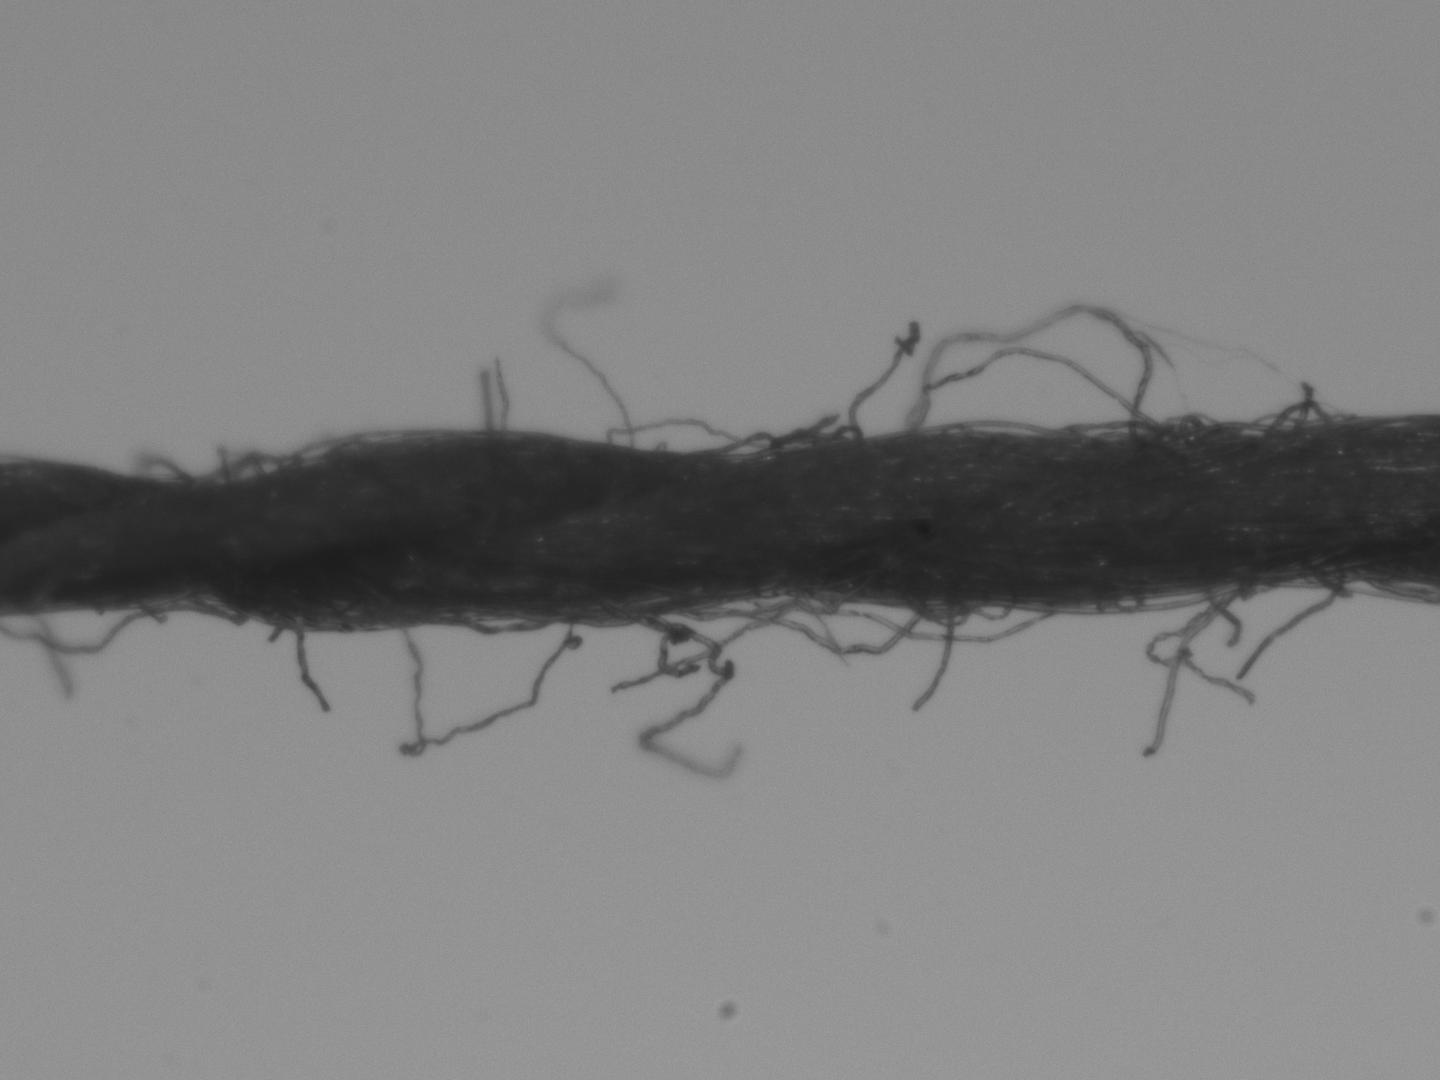loop_fiber: (686, 591, 921, 658), (1027, 584, 1235, 617), (603, 417, 760, 450), (196, 454, 298, 483), (927, 417, 1067, 438), (430, 609, 549, 633), (1269, 395, 1329, 431), (1071, 419, 1163, 437), (774, 430, 828, 457), (966, 597, 1011, 623), (831, 421, 865, 441)
